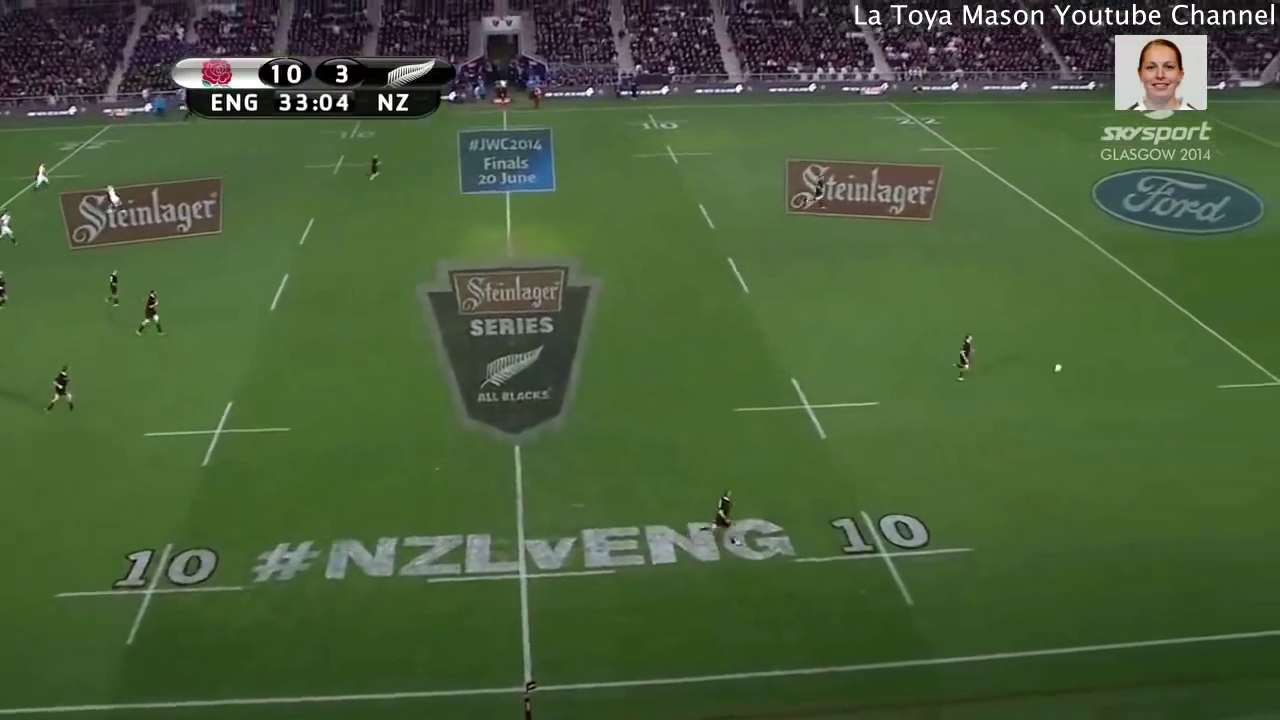10_metre: (45, 536, 257, 656), (779, 504, 983, 609), (139, 395, 294, 473), (729, 372, 887, 446), (299, 148, 384, 183), (633, 141, 722, 167), (618, 108, 706, 134), (312, 121, 390, 146)
ball: (1046, 355, 1072, 382)
player: (705, 481, 745, 555), (38, 360, 84, 421), (946, 324, 982, 393), (132, 284, 169, 341), (102, 262, 125, 314), (1, 207, 26, 248), (29, 159, 60, 192), (97, 181, 127, 213), (365, 148, 387, 184), (1, 275, 16, 322)
